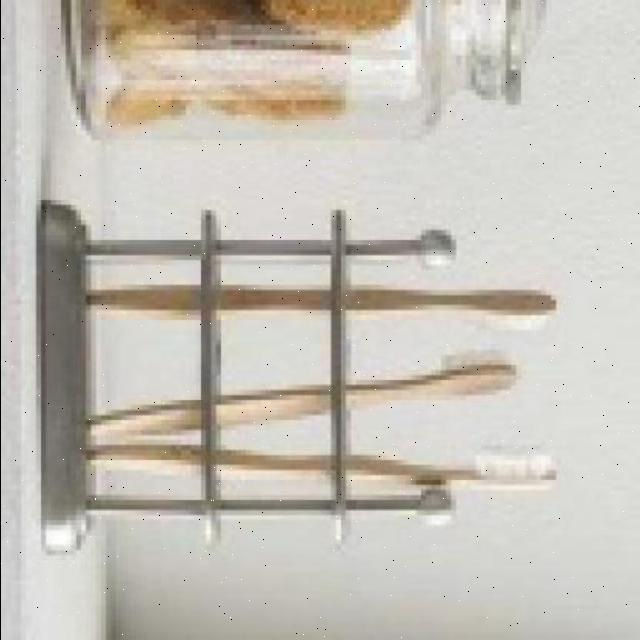toothbrush: (55, 437, 575, 497), (80, 272, 580, 334)
